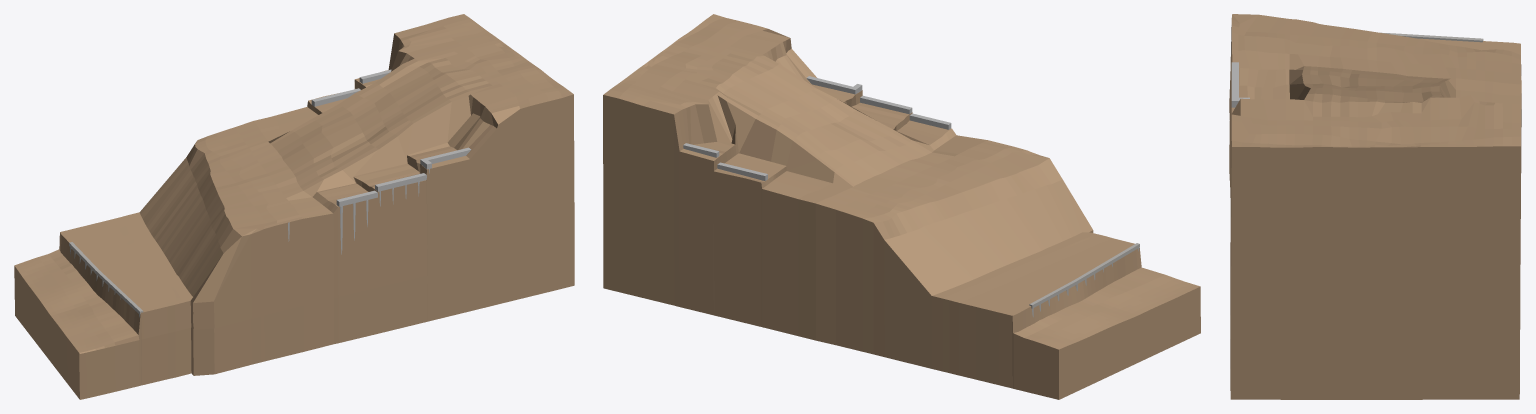
File: cb1_spw2_3.glb
3 views of the same model, side by side, from view 1: azimuth 30°, elevation 25°; view 2: azimuth 150°, elevation 25°; view 3: azimuth 270°, elevation 25° (orthographic). The views are drawn at different scales.
Parts seen in each view (by area): view 1: Terrain 07 - SPW2+3.001, Terrain 07 - SPW2+3.002, Cube.019; view 2: Terrain 07 - SPW2+3.002, Terrain 07 - SPW2+3.001, Cube.019; view 3: Terrain 07 - SPW2+3.001, Terrain 07 - SPW2+3.002, Cube.019.
Part boxes in pixels (box(x1,y1,x2,y2)): Terrain 07 - SPW2+3.001: box(14, 14, 574, 353); Terrain 07 - SPW2+3.002: box(14, 14, 574, 399); Cube.019: box(69, 242, 143, 314); Terrain 07 - SPW2+3.002: box(603, 14, 1200, 399); Terrain 07 - SPW2+3.001: box(603, 14, 1199, 349); Cube.019: box(1029, 243, 1139, 308); Terrain 07 - SPW2+3.001: box(1229, 14, 1521, 339); Terrain 07 - SPW2+3.002: box(1229, 14, 1521, 399); Cube.019: box(1380, 32, 1483, 42).
Size of the model in its own units: 45.82 by 17.24 by 17.99.
